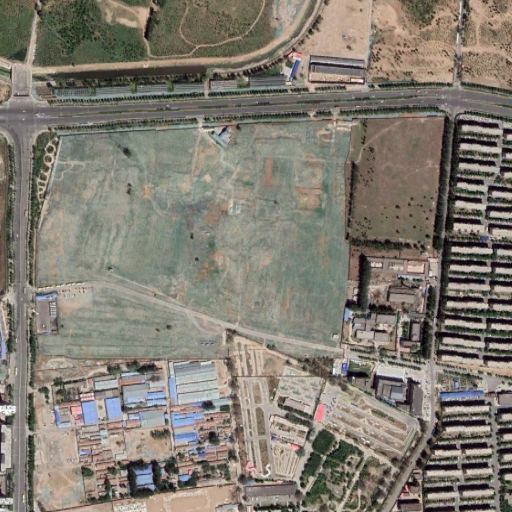cw: (37, 120, 350, 366)
